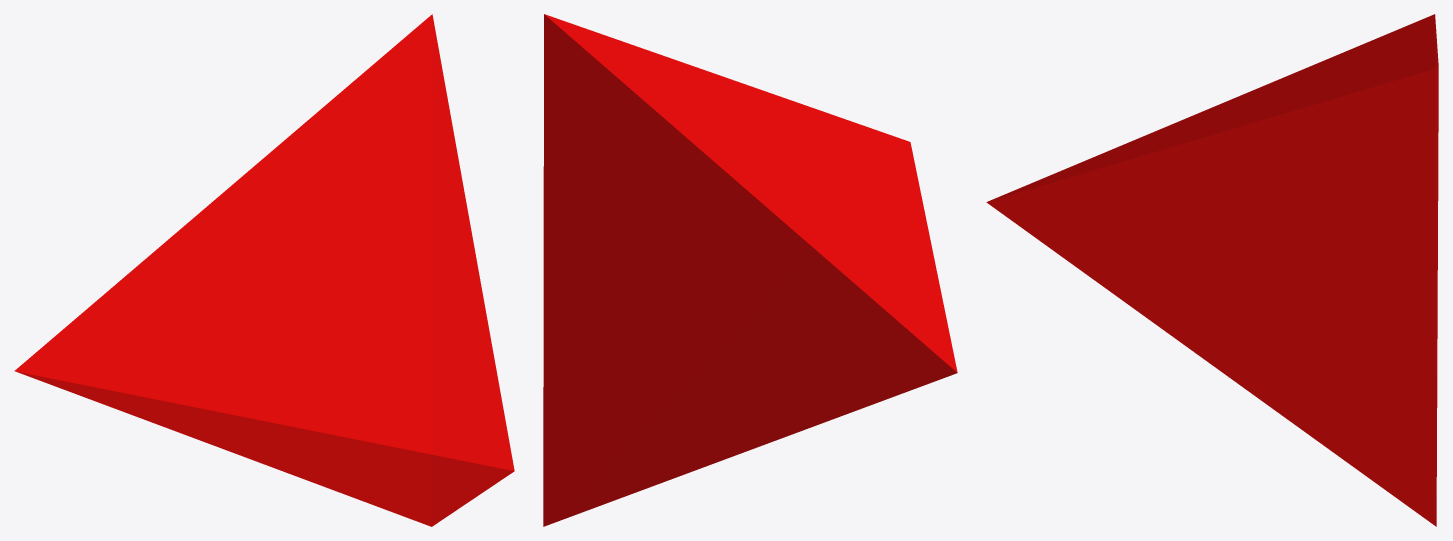
Rendered from filledShapesV2.fbx.
The picture shows the model from 3 angles, left to right: view 1: azimuth 30°, elevation 25°; view 2: azimuth 150°, elevation 25°; view 3: azimuth 270°, elevation 25°; orthographic projection.
Visible parts, largest first — view 1: Platonic_2tetra_left; view 2: Platonic_2tetra_left; view 3: Platonic_2tetra_left.
Boxes of the visible parts, box(x1,y1,x2,y2) form: Platonic_2tetra_left: box(14, 14, 514, 526); Platonic_2tetra_left: box(543, 14, 957, 526); Platonic_2tetra_left: box(986, 14, 1438, 526).
Size of the model in its own units: 872 by 1028 by 822.
